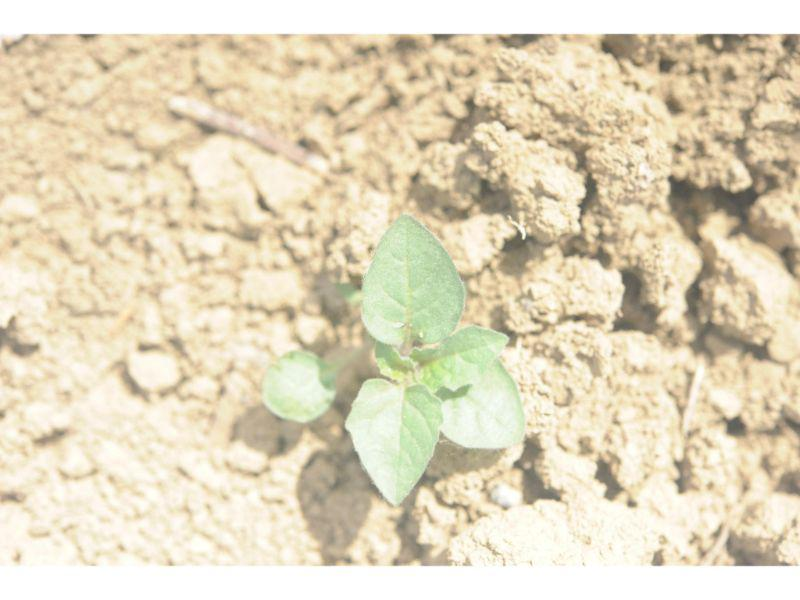nightshade: (264, 212, 524, 504)
